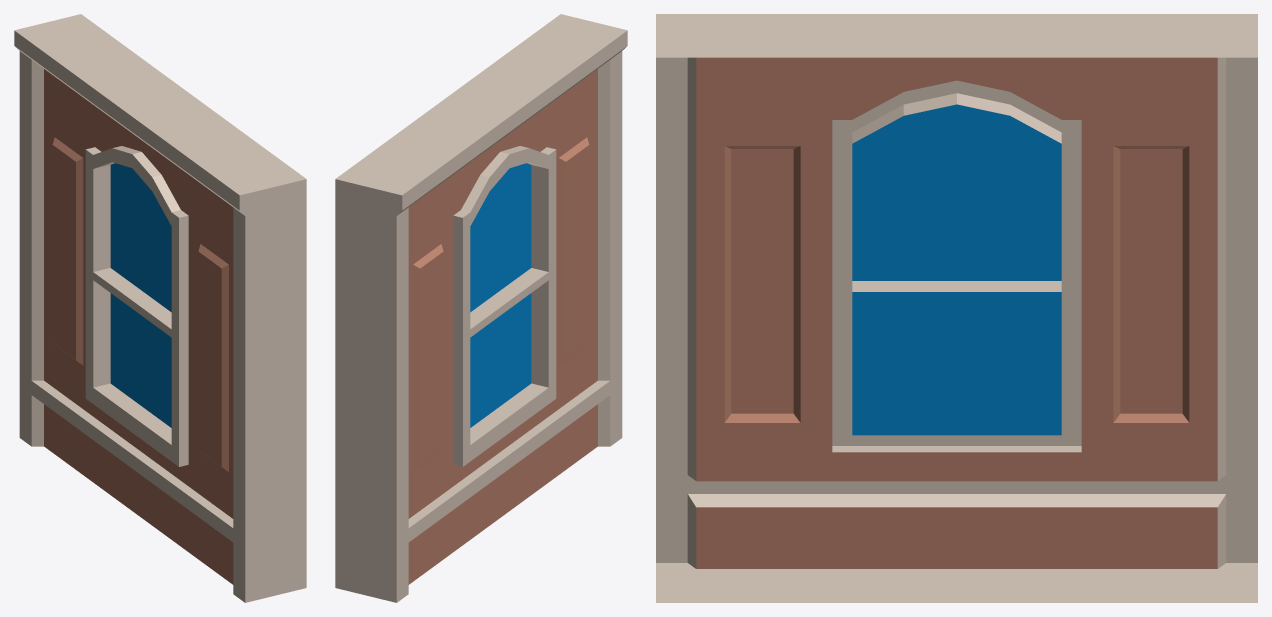
The model's file is O_V_F_Type7_Window.fbx.
The picture shows the model from 3 angles, left to right: view 1: azimuth 30°, elevation 25°; view 2: azimuth 150°, elevation 25°; view 3: azimuth 270°, elevation 25°; orthographic projection. The views are drawn at different scales.
Parts seen in each view (by area): view 1: Box038; view 2: Box038; view 3: Box038.
Boxes of the visible parts, <box> form: Box038: <box>14,14,306,602</box>; Box038: <box>335,14,627,602</box>; Box038: <box>656,14,1257,602</box>.
Size of the model in its own units: 0.5142 by 3 by 3.
